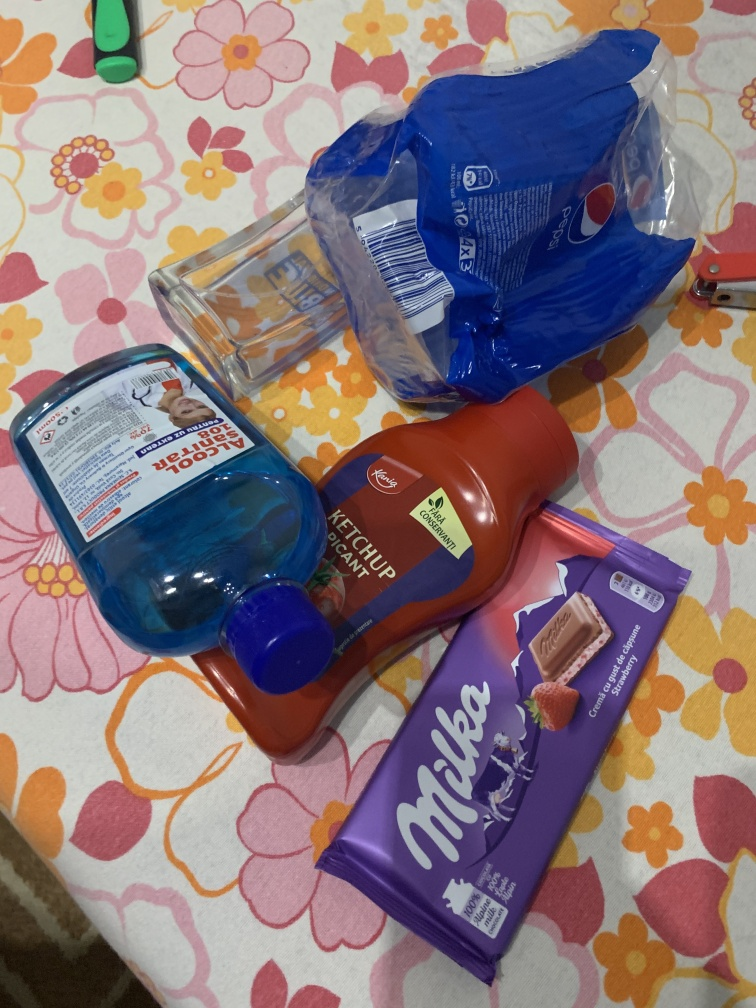ketchup: (188, 386, 584, 765)
milka: (319, 488, 689, 972)
